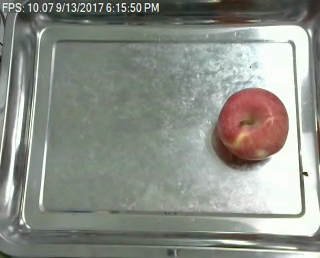Apple: (214, 87, 291, 162)
